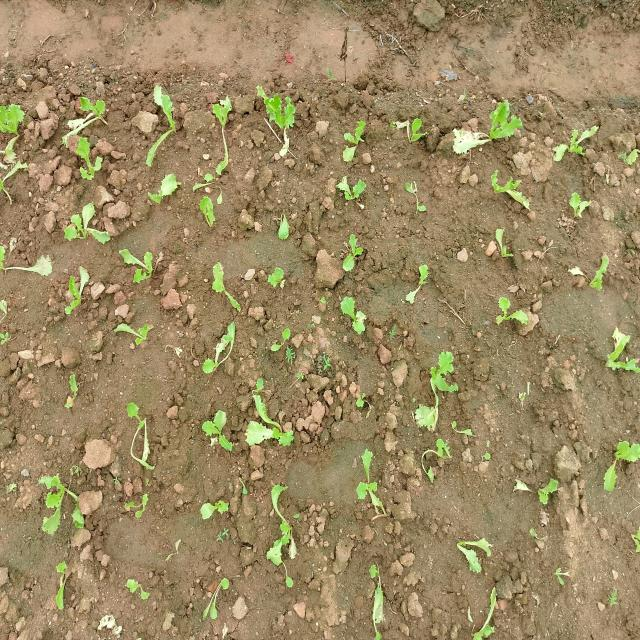Lettuce: (136, 76, 192, 168), (248, 74, 308, 142), (485, 284, 543, 348), (35, 471, 89, 536), (558, 167, 612, 228), (349, 440, 392, 515), (511, 460, 565, 517), (269, 473, 296, 586), (121, 389, 160, 467), (585, 230, 622, 308), (449, 525, 496, 585), (198, 564, 244, 624), (61, 200, 116, 250), (200, 322, 246, 380), (550, 113, 602, 164), (392, 100, 434, 162), (0, 103, 27, 194), (600, 432, 638, 494), (445, 113, 489, 166), (482, 99, 531, 146), (246, 409, 300, 451), (424, 346, 467, 398), (46, 556, 84, 614), (408, 428, 450, 480), (485, 167, 531, 214), (116, 243, 166, 286), (368, 547, 390, 640), (60, 266, 100, 317), (194, 492, 238, 535), (193, 406, 238, 448), (603, 327, 640, 378), (202, 261, 243, 305), (264, 321, 306, 363), (253, 250, 294, 292), (333, 294, 371, 339), (339, 117, 375, 164), (490, 220, 524, 269), (112, 311, 157, 348), (123, 486, 160, 528), (72, 94, 111, 133), (116, 562, 154, 601), (332, 231, 368, 271), (150, 168, 183, 210), (326, 176, 372, 206), (206, 92, 241, 129), (409, 265, 437, 307), (60, 375, 86, 413), (275, 200, 299, 240), (201, 194, 224, 232), (0, 227, 16, 280), (552, 560, 571, 585)
